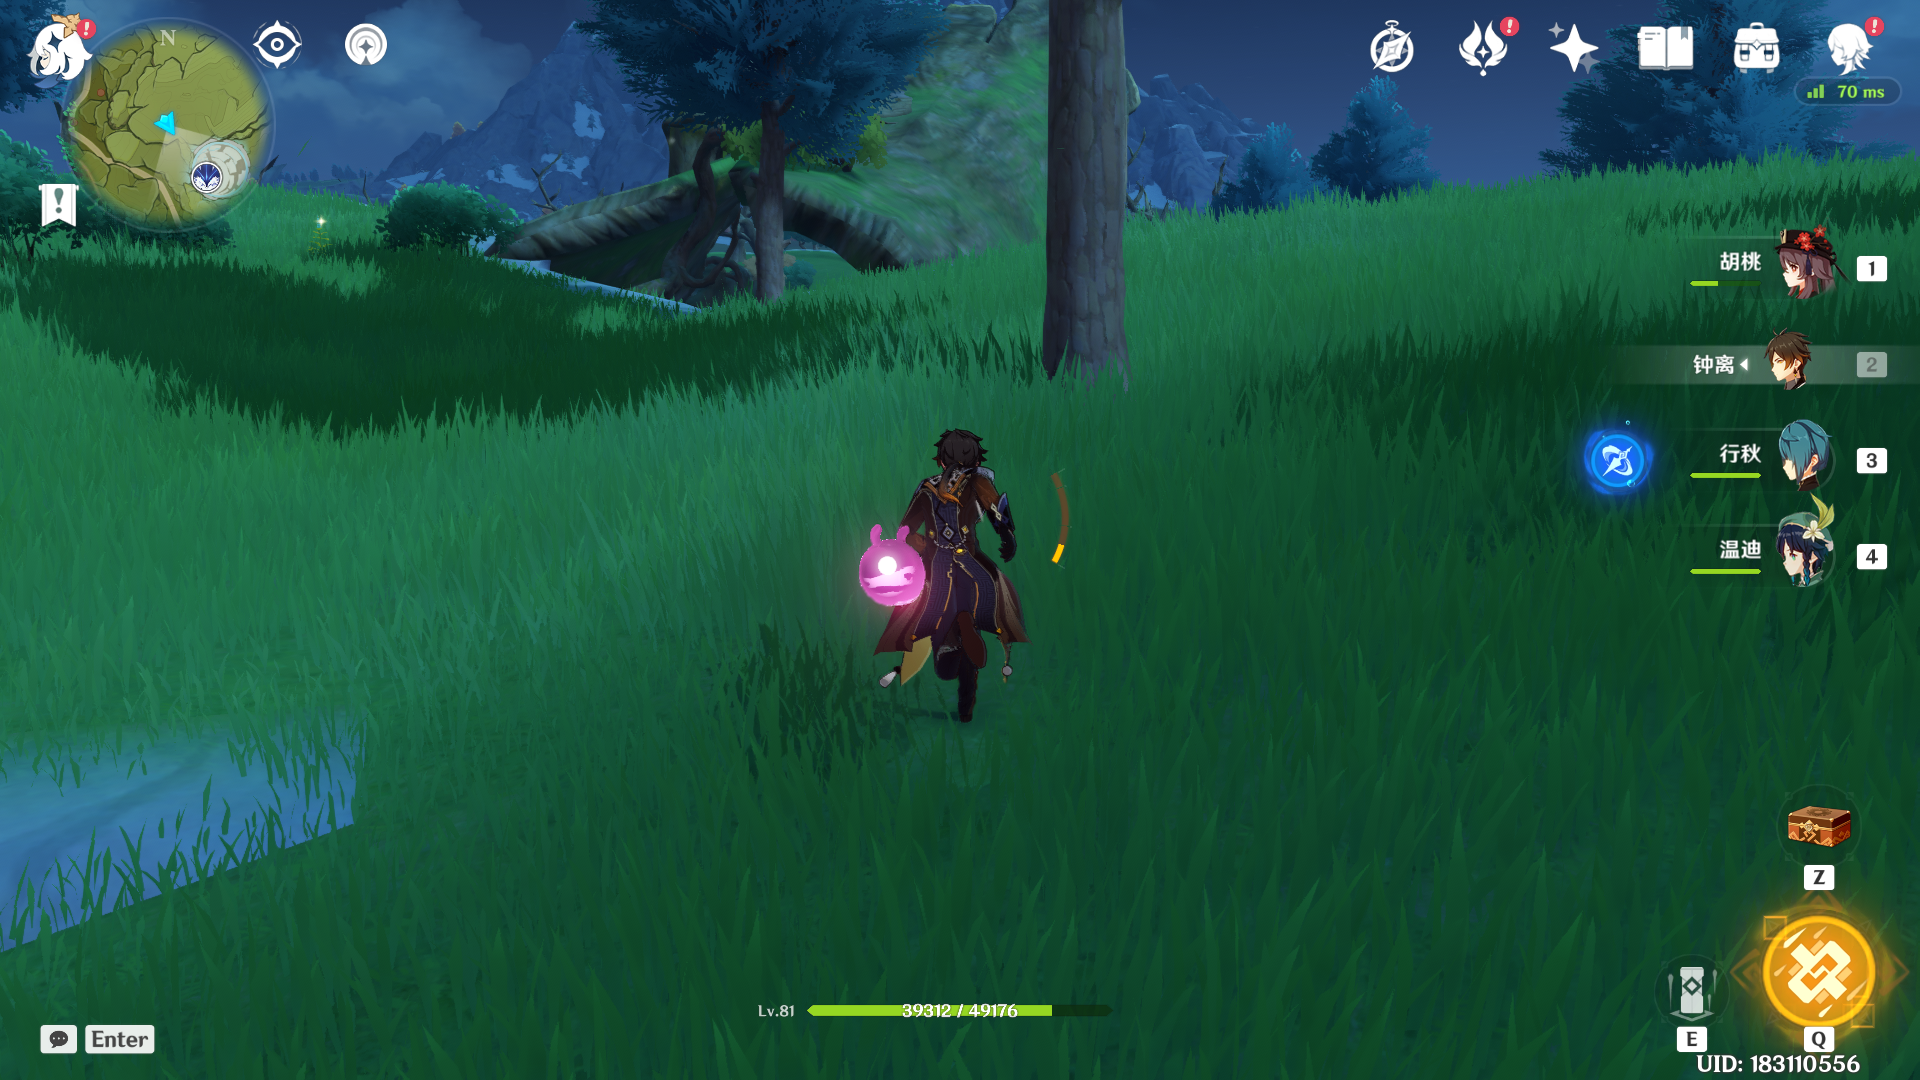character: (829, 404, 1065, 738)
